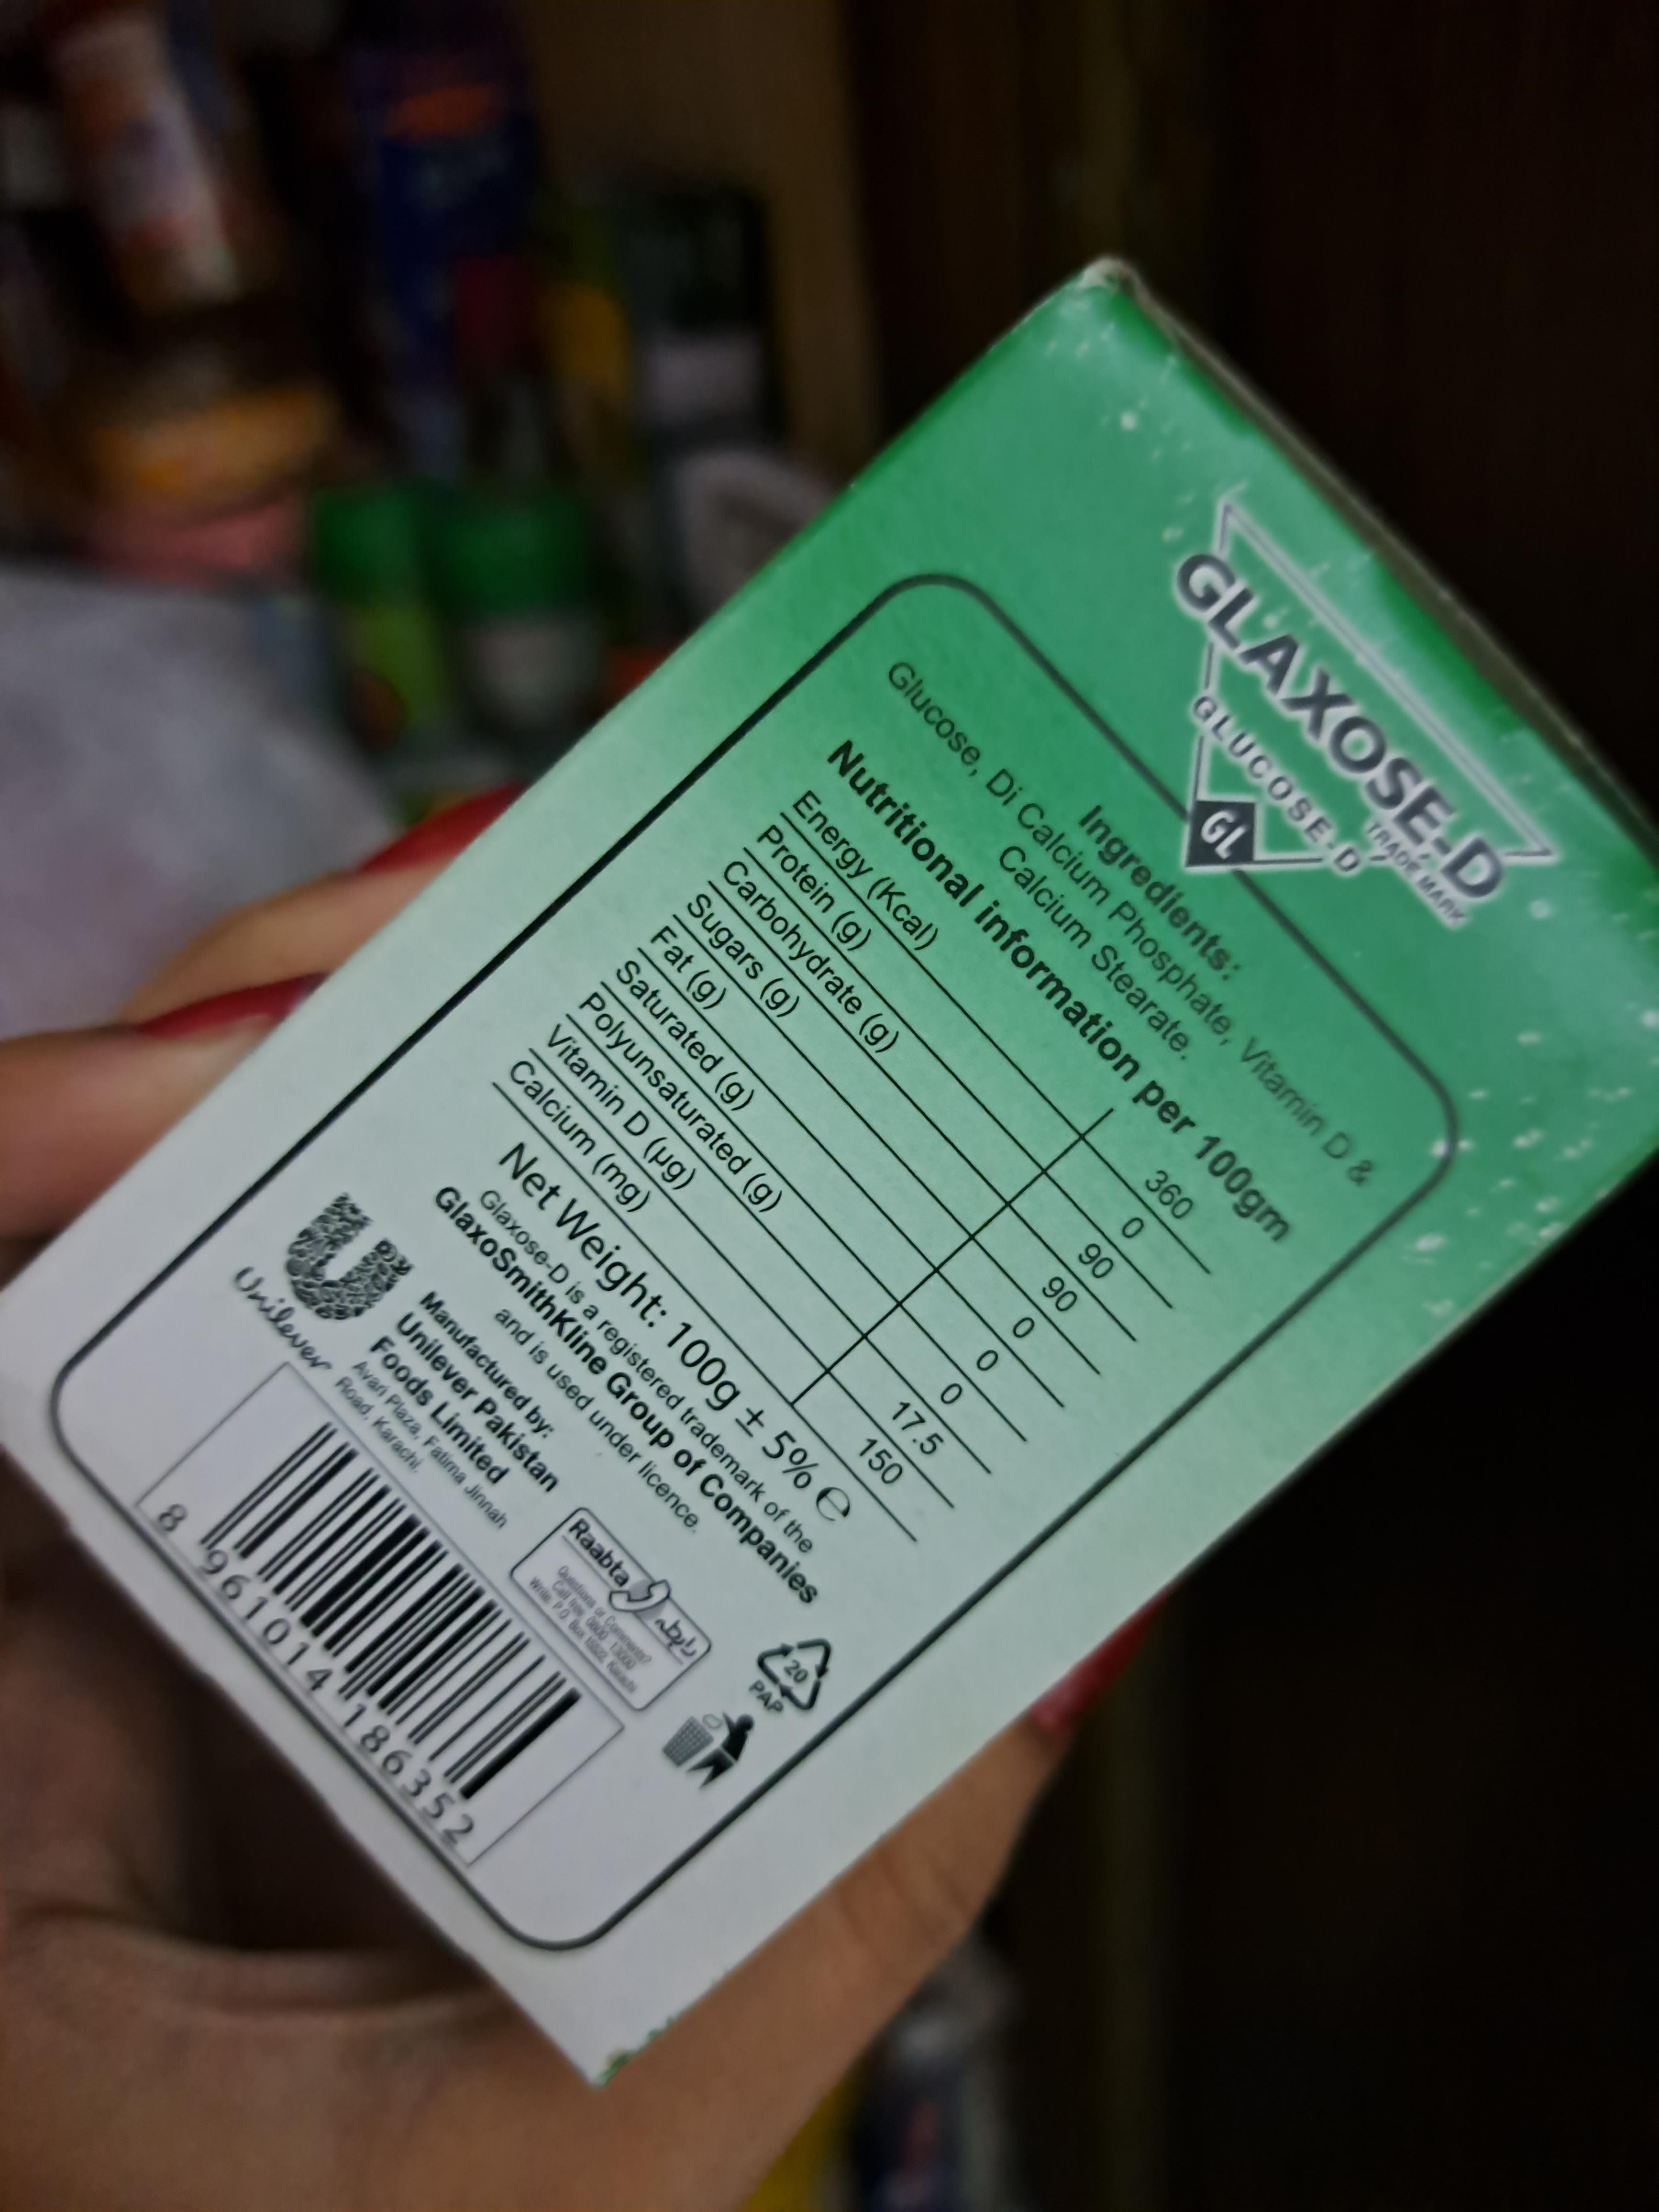table: (491, 721, 1323, 1566)
